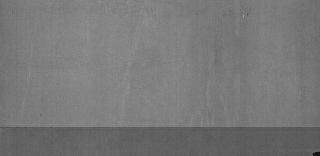punching hole: (310, 152, 320, 156)
rolled pit: (220, 7, 253, 19)
welding line: (1, 122, 320, 132)
